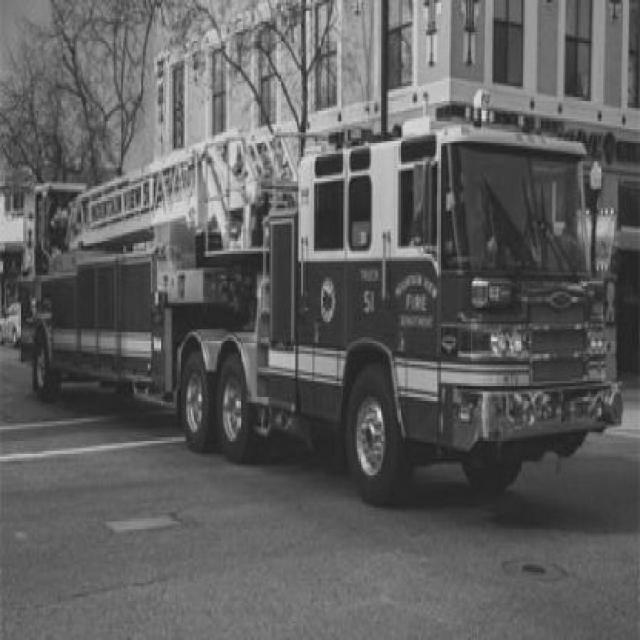Fire Truck: (32, 103, 627, 510)
